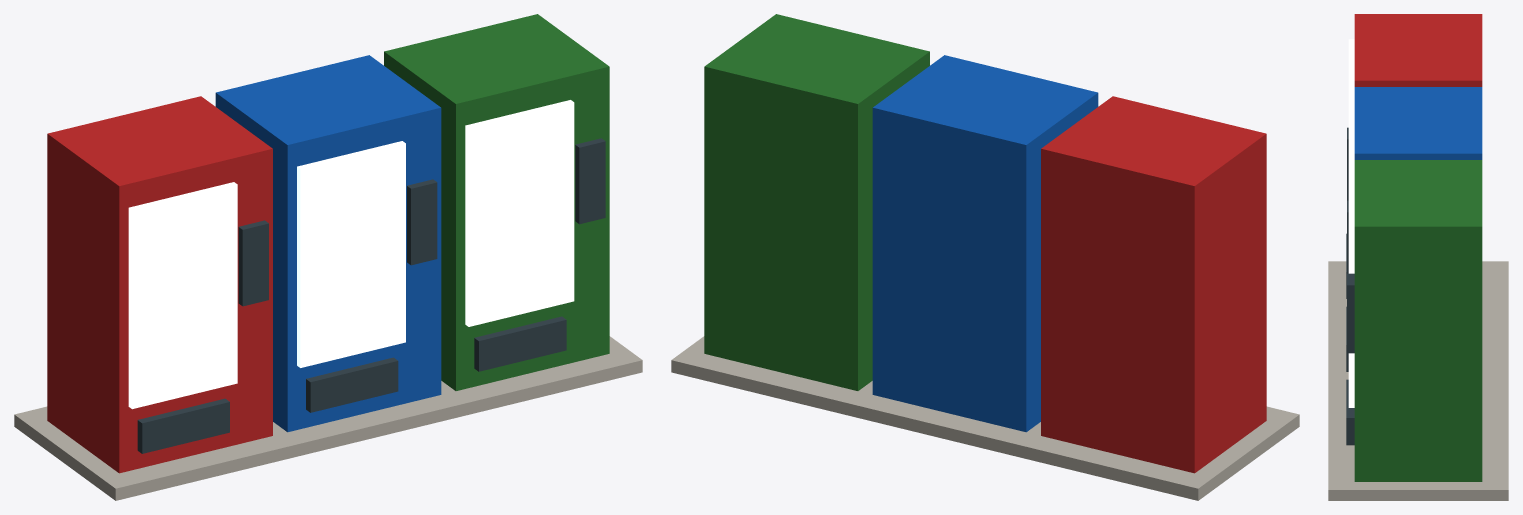
Rendered from exits_vending.glb.
The picture shows the model from 3 angles, left to right: view 1: azimuth 30°, elevation 25°; view 2: azimuth 150°, elevation 25°; view 3: azimuth 270°, elevation 25°; orthographic projection. The views are drawn at different scales.
Parts seen in each view (by area): view 1: ExitsVending_body; view 2: ExitsVending_body; view 3: ExitsVending_body.
Part boxes in pixels (x1,y1,x2,y2): ExitsVending_body: (14,14,642,500); ExitsVending_body: (671,14,1299,500); ExitsVending_body: (1328,14,1508,500).
Bounding box in the file's own units: 3.6 × 1.96 × 1.2.
